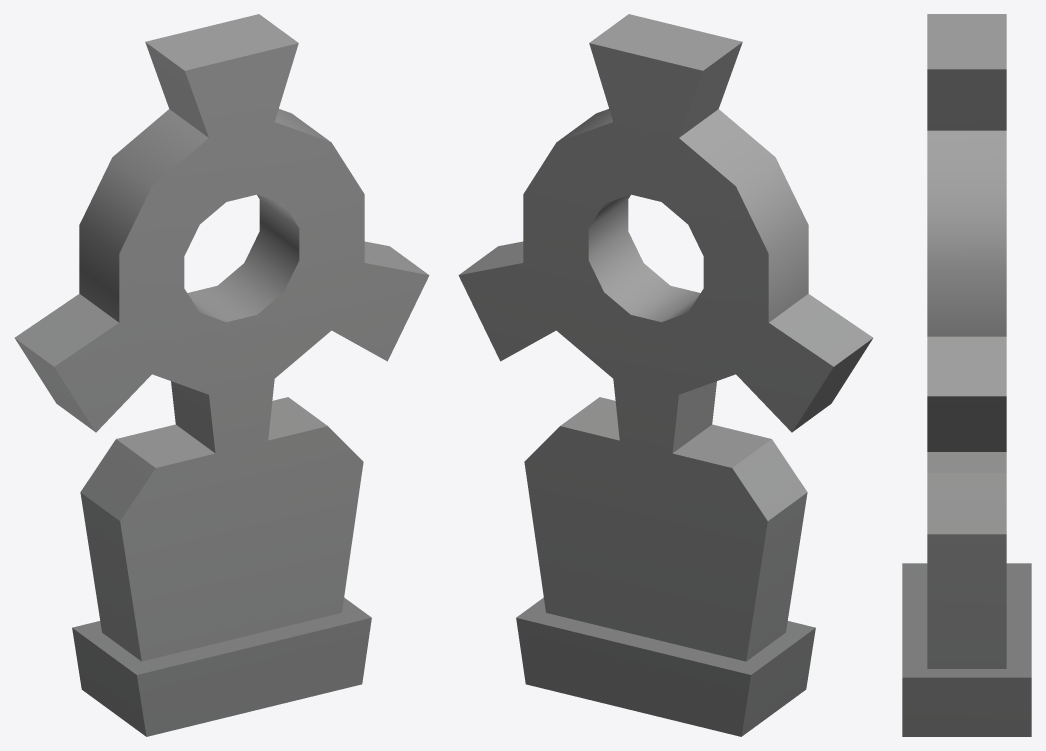
The model's file is grave_stone.fbx.
3 renders of one model, left to right at view 1: azimuth 30°, elevation 25°; view 2: azimuth 150°, elevation 25°; view 3: azimuth 270°, elevation 25°, orthographic.
Visible parts, largest first — view 1: grave_stone; view 2: grave_stone; view 3: grave_stone.
Boxes of the visible parts, bbox=[...] form: grave_stone: bbox=[14, 14, 429, 736]; grave_stone: bbox=[458, 14, 873, 736]; grave_stone: bbox=[902, 14, 1031, 736].
Size of the model in its own units: 5.45 by 8.95 by 1.63.
